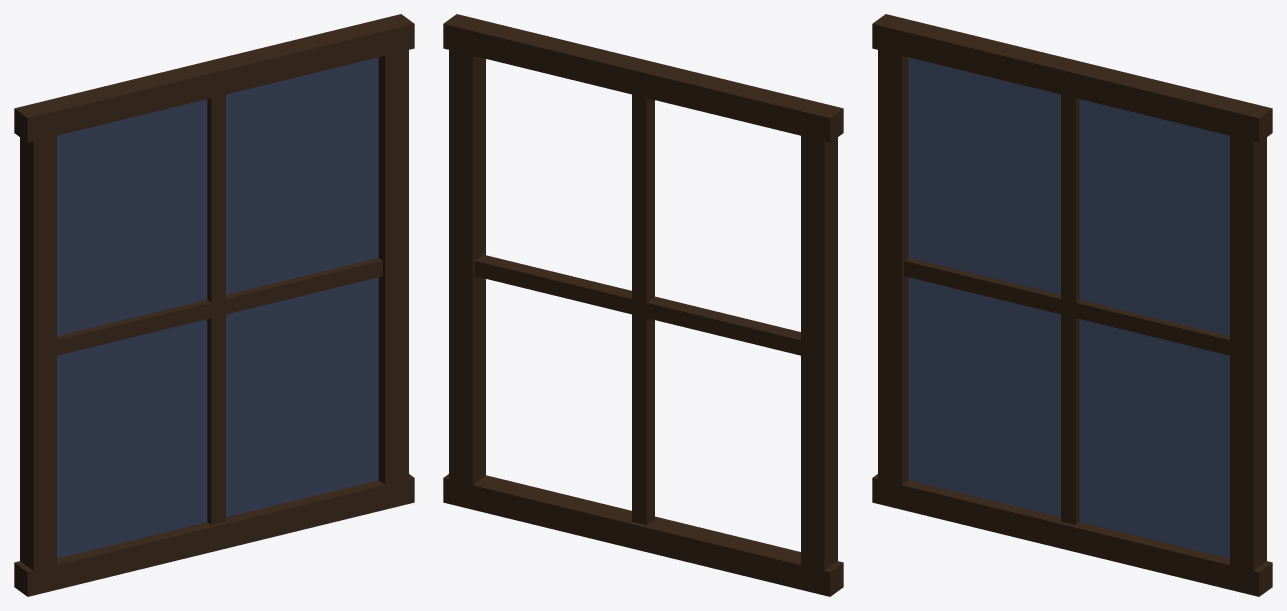
Rendered from window.glb.
3 renders of one model, left to right at view 1: azimuth 30°, elevation 25°; view 2: azimuth 150°, elevation 25°; view 3: azimuth 330°, elevation 25°, orthographic.
Visible parts, largest first — view 1: glass, window; view 2: window; view 3: glass, window.
Boxes of the visible parts, x1,y1,x2,y2 form: glass: (57, 57, 378, 558); window: (14, 14, 414, 596); window: (443, 14, 843, 596); glass: (908, 57, 1229, 558); window: (872, 14, 1272, 596).
Bounding box in the file's own units: 1.32 × 1.56 × 0.08.
